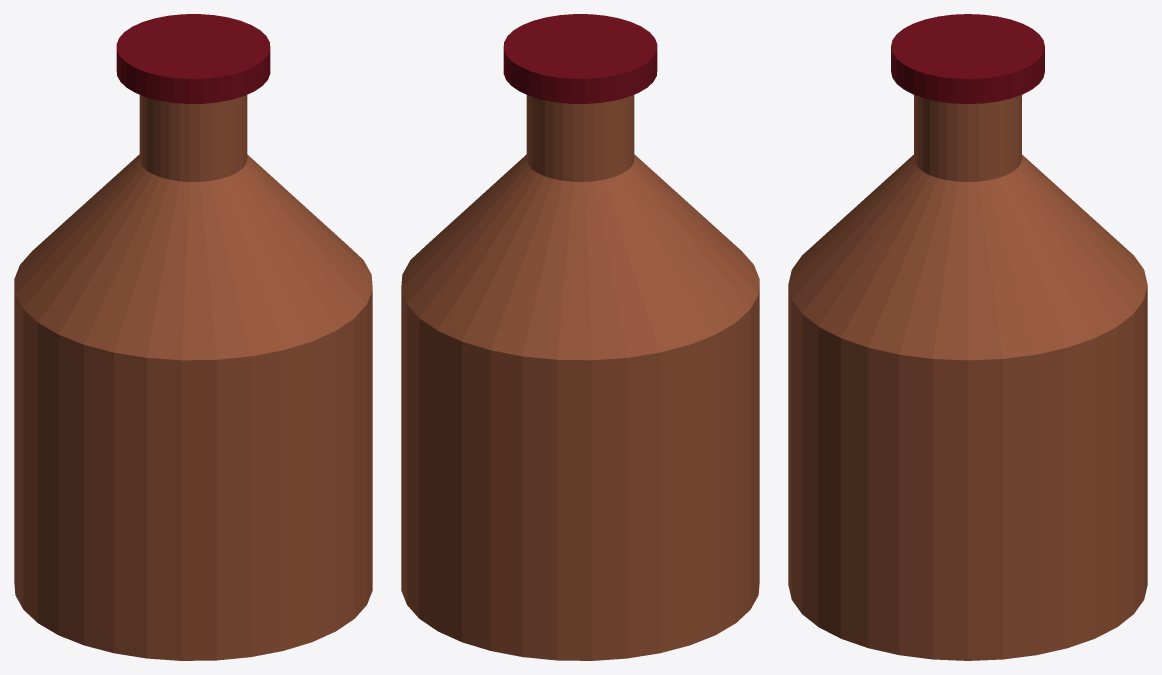
File: BoteAcido.fbx
3 renders of one model, left to right at view 1: azimuth 30°, elevation 25°; view 2: azimuth 150°, elevation 25°; view 3: azimuth 270°, elevation 25°, orthographic.
Parts seen in each view (by area): view 1: Cilindro; view 2: Cilindro; view 3: Cilindro.
Part boxes in pixels (left/top/right/bottom): Cilindro: left=14, top=14, right=372, bottom=660; Cilindro: left=401, top=14, right=759, bottom=660; Cilindro: left=788, top=14, right=1147, bottom=660.
Bounding box in the file's own units: 260 × 430 × 260.
